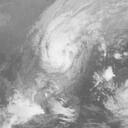cyclone: (39, 12, 83, 74)
